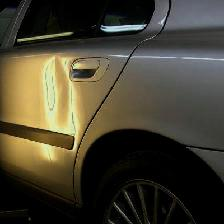door_dent: (35, 48, 76, 158)
